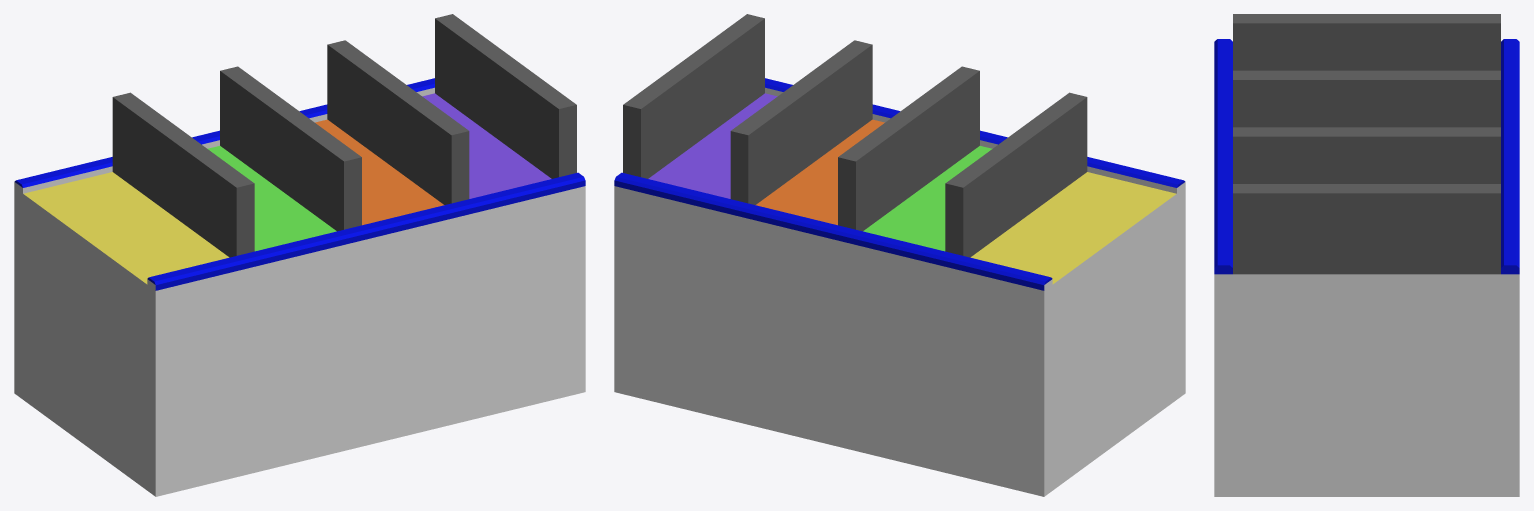
Rendered from Bonus.fbx.
3 views of the same model, side by side, from view 1: azimuth 30°, elevation 25°; view 2: azimuth 150°, elevation 25°; view 3: azimuth 270°, elevation 25° (orthographic). The views are drawn at different scales.
Visible parts, largest first — view 1: Straight, Cube, Cube.002, Cube.003, Cube.001; view 2: Straight, Cube, Cube.002, Cube.003, Cube.001; view 3: Straight, Cube.003, Cube.001, Cube, Cube.002.
Boxes of the visible parts, left/top/right/bottom form: Straight: left=14, top=78, right=585, bottom=496; Cube: left=112, top=92, right=254, bottom=257; Cube.002: left=327, top=40, right=469, bottom=204; Cube.003: left=435, top=14, right=576, bottom=178; Cube.001: left=220, top=66, right=361, bottom=231; Straight: left=614, top=78, right=1185, bottom=496; Cube: left=945, top=92, right=1087, bottom=257; Cube.002: left=730, top=40, right=872, bottom=204; Cube.003: left=623, top=14, right=764, bottom=178; Cube.001: left=838, top=66, right=979, bottom=231; Straight: left=1214, top=39, right=1519, bottom=496; Cube.003: left=1233, top=184, right=1500, bottom=274; Cube.001: left=1233, top=70, right=1500, bottom=127; Cube: left=1233, top=14, right=1500, bottom=70; Cube.002: left=1233, top=127, right=1500, bottom=183.
Bounding box in the file's own units: 24 × 15 × 13.67.
